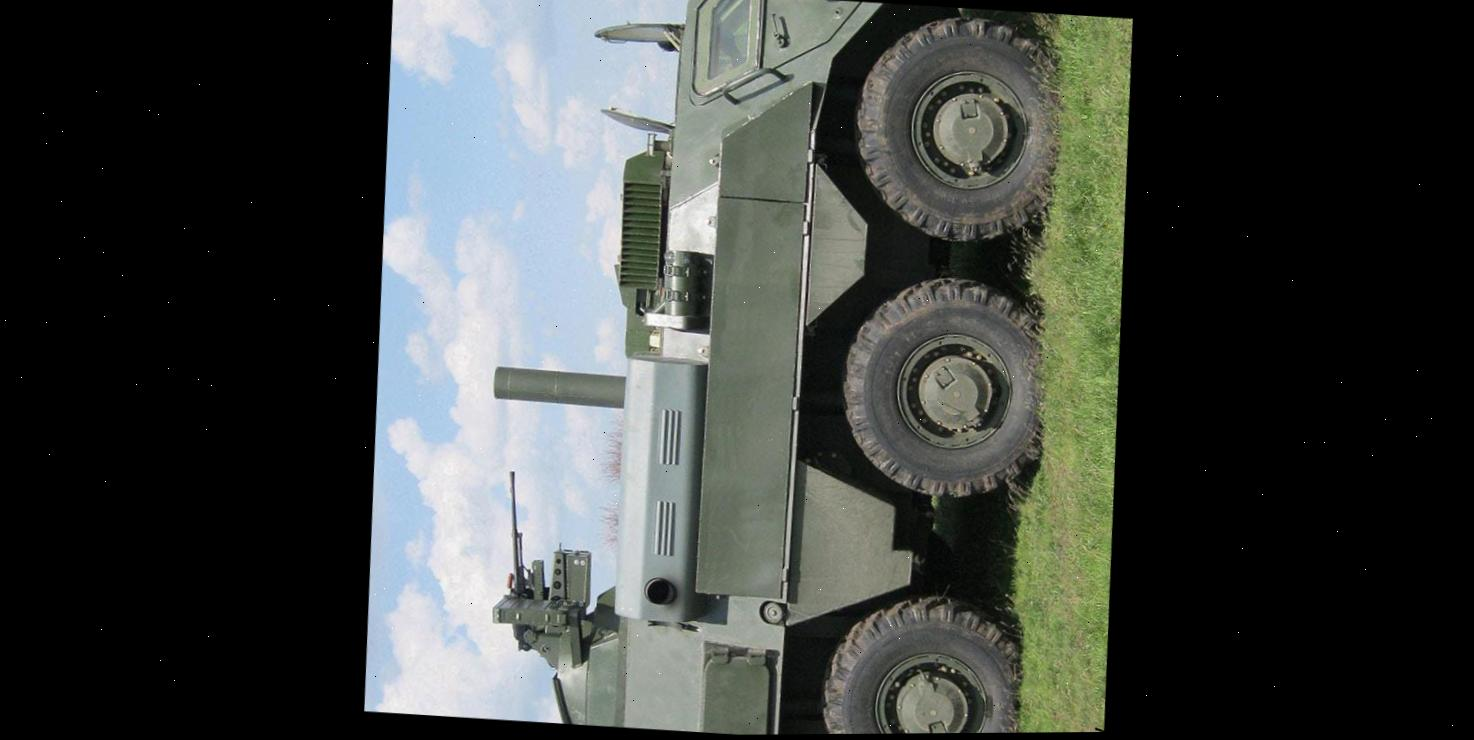tank: (456, 0, 1085, 737)
